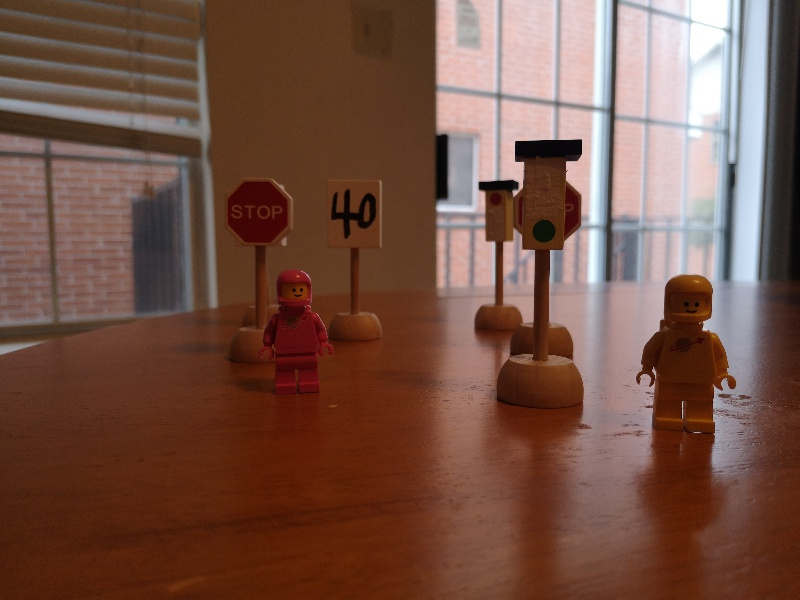Green Traffic Light: (513, 137, 582, 255)
Person: (639, 275, 737, 436), (263, 268, 336, 397)
Red Traffic Light: (476, 181, 517, 243)
Speed Limit 40: (326, 178, 382, 251)
Stop Sign: (226, 177, 295, 246)
